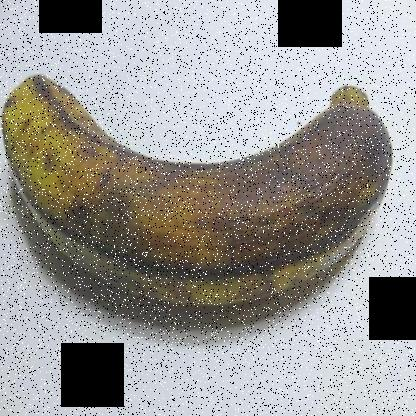overripe: (1, 65, 402, 309)
